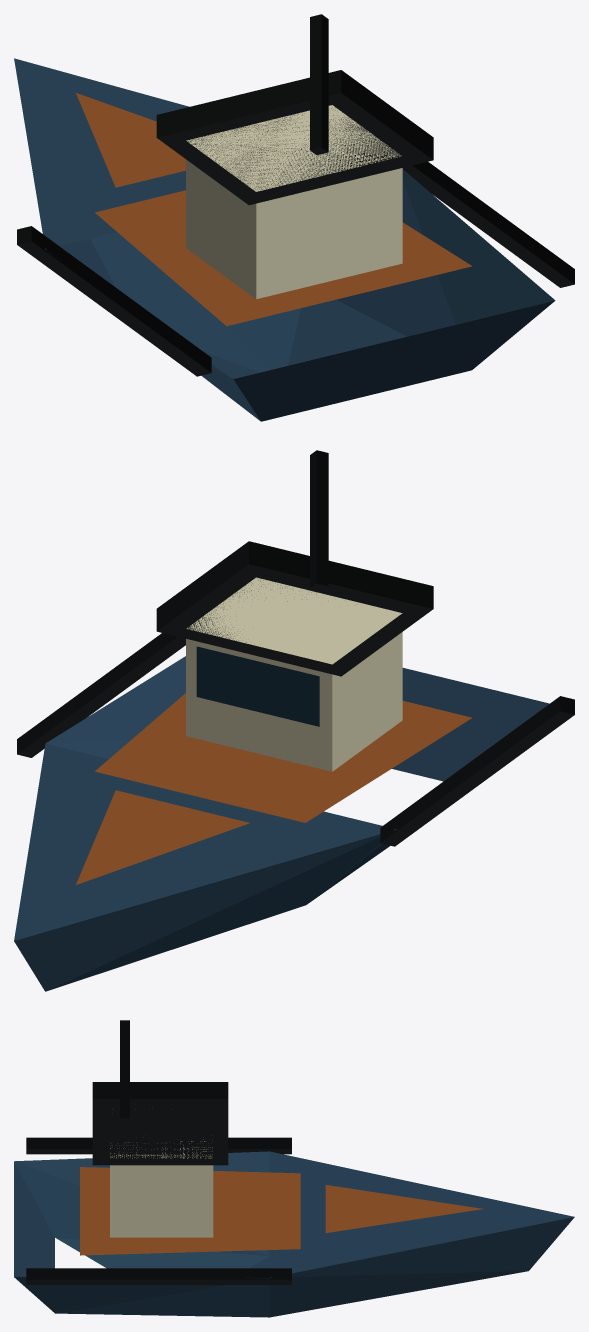
File: arrival_boat.obj
3 views of the same model, one above another, from view 1: azimuth 30°, elevation 25°; view 2: azimuth 150°, elevation 25°; view 3: azimuth 270°, elevation 25° (orthographic). The views are drawn at different scales.
Parts seen in each view (by area): view 1: boatHull, boatCabin, boatTrim, boatDeck; view 2: boatHull, boatTrim, boatDeck, boatCabin, boatGlass; view 3: boatHull, boatTrim, boatDeck, boatCabin.
Boxes of the visible parts, left/top/right/bottom form: boatHull: left=14, top=58, right=555, bottom=421; boatCabin: left=186, top=105, right=402, bottom=299; boatTrim: left=17, top=14, right=574, bottom=376; boatDeck: left=76, top=93, right=471, bottom=326; boatHull: left=14, top=656, right=549, bottom=991; boatTrim: left=17, top=450, right=574, bottom=846; boatDeck: left=76, top=693, right=472, bottom=884; boatCabin: left=186, top=577, right=402, bottom=771; boatGlass: left=196, top=646, right=319, bottom=726; boatHull: left=14, top=1151, right=574, bottom=1317; boatTrim: left=26, top=1020, right=291, bottom=1284; boatDeck: left=80, top=1167, right=482, bottom=1255; boatCabin: left=110, top=1139, right=213, bottom=1237.
Bounding box in the file's own units: 2.58 × 2.54 × 4.5.
